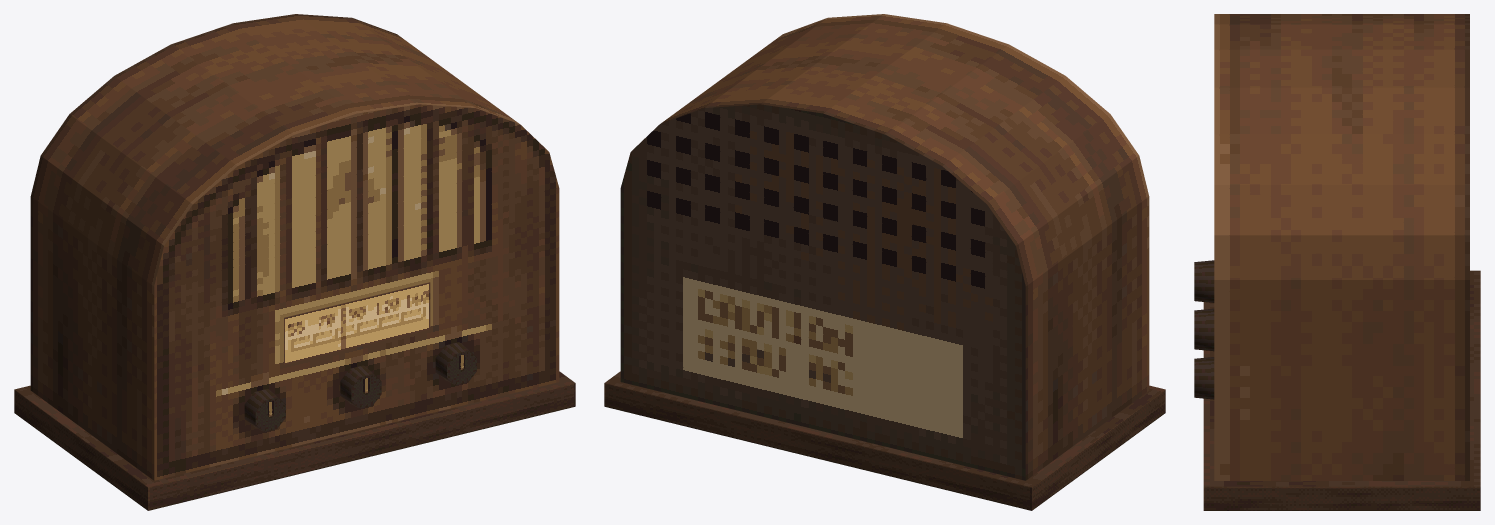
The model's file is radio_old.glb.
3 renders of one model, left to right at view 1: azimuth 30°, elevation 25°; view 2: azimuth 150°, elevation 25°; view 3: azimuth 270°, elevation 25°, orthographic. The views are drawn at different scales.
Visible parts, largest first — view 1: radio_old; view 2: radio_old; view 3: radio_old.
Boxes of the visible parts, <box> form: radio_old: <box>14,14,575,510</box>; radio_old: <box>604,14,1165,510</box>; radio_old: <box>1194,14,1480,510</box>.
Bounding box in the file's own units: 0.38 × 0.29 × 0.213.
Materials: 2 (2 with a texture image).
